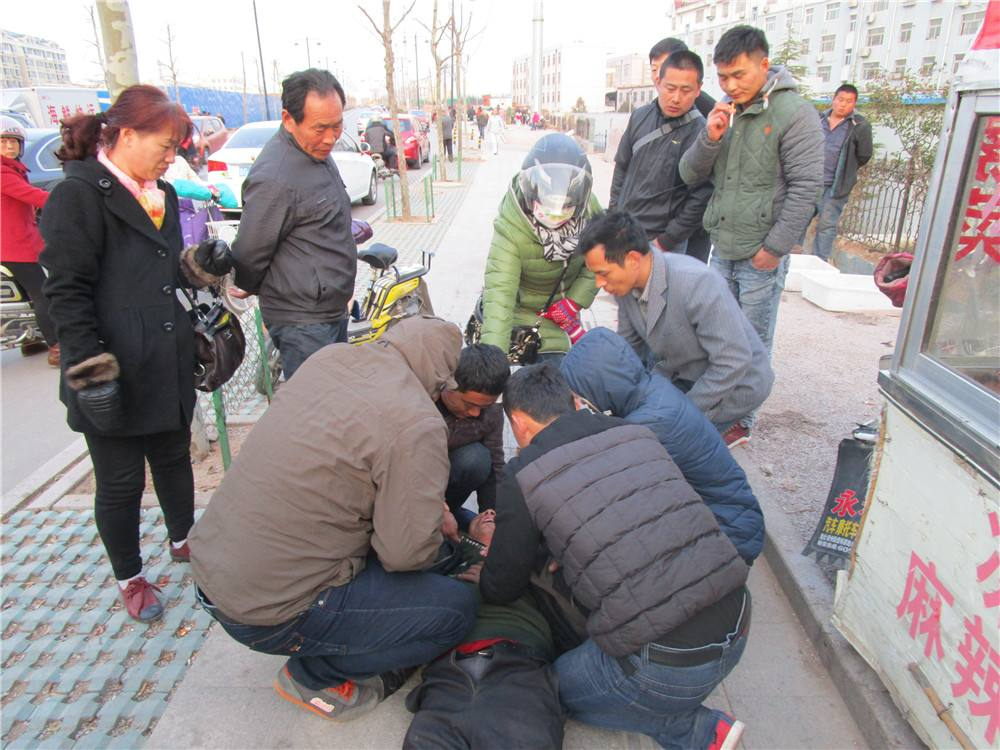10+: (5, 13, 885, 743)
down: (394, 476, 586, 749)
